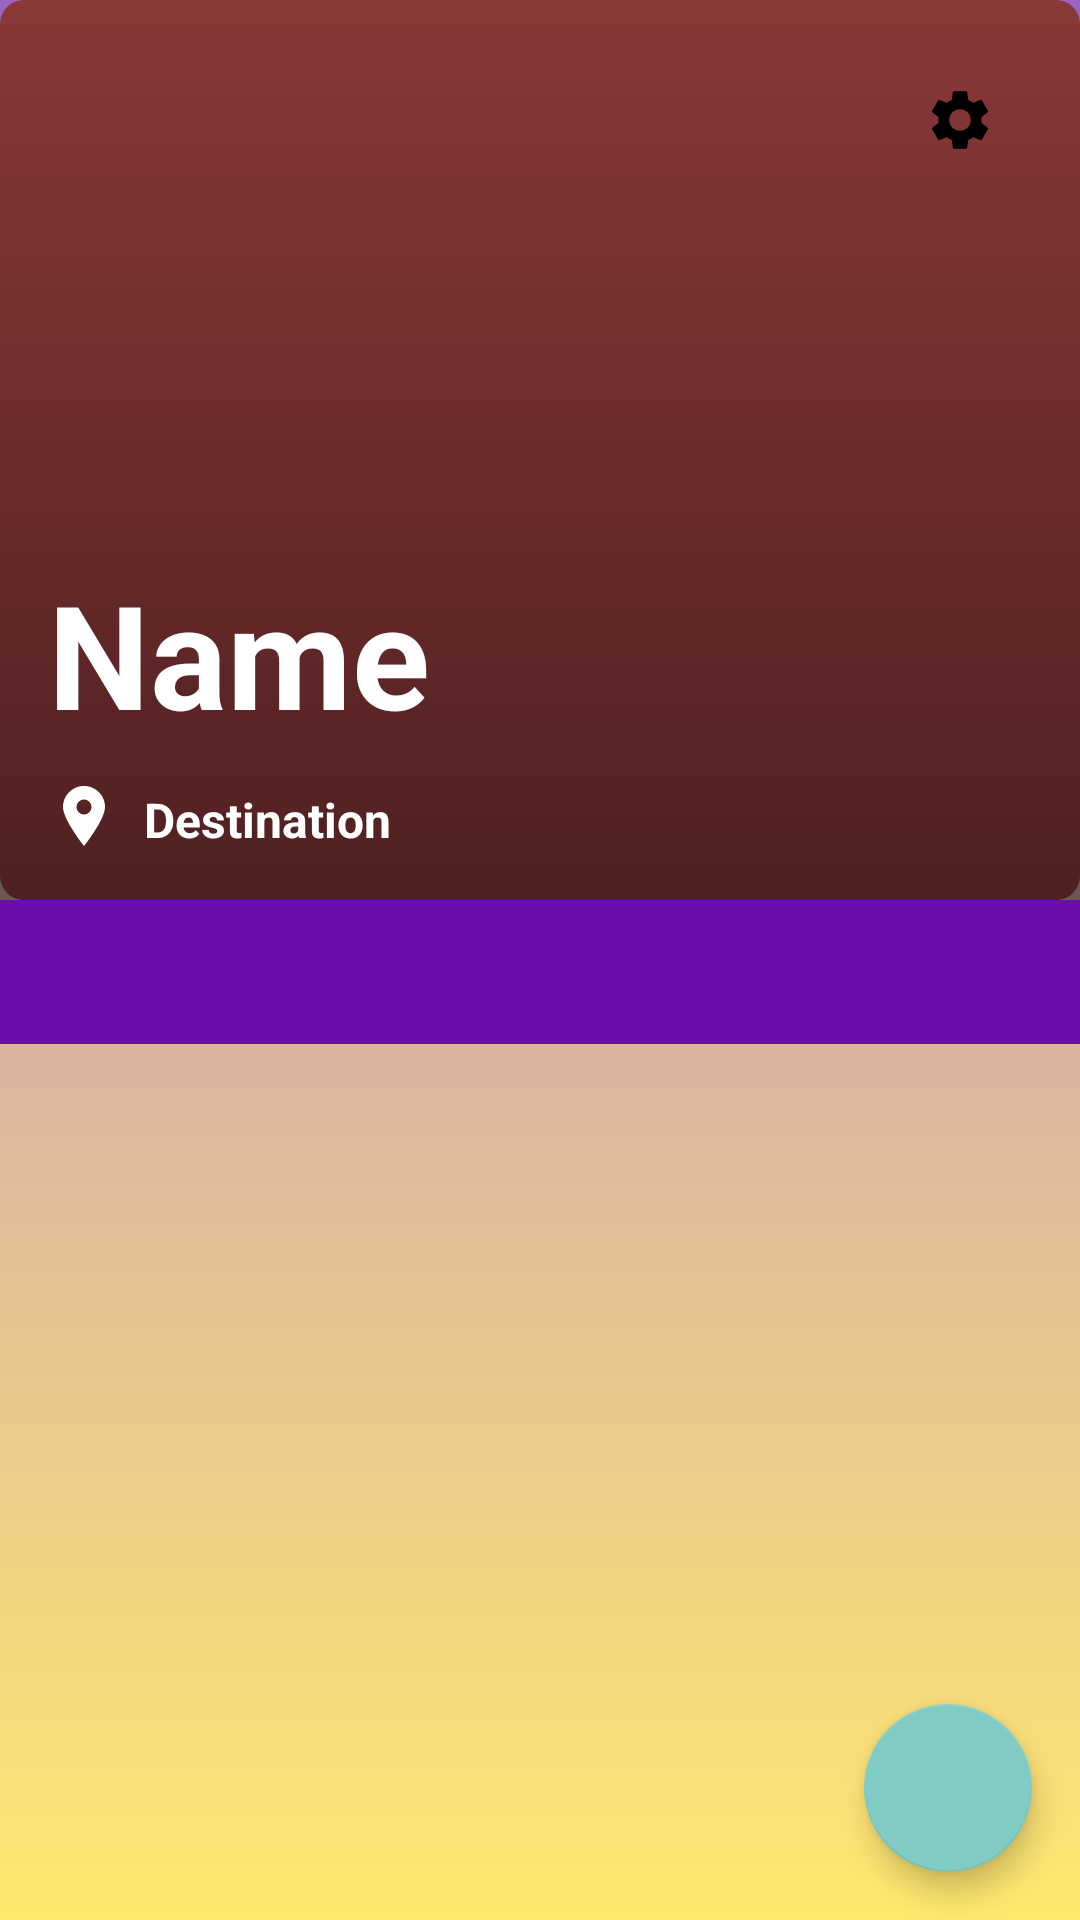

Icons on this 1080w x 1920h Android screen, each with its box as (x1, y1, x2, y2):
location symbol: (63, 786, 105, 846)
Settings: (932, 91, 988, 149)
